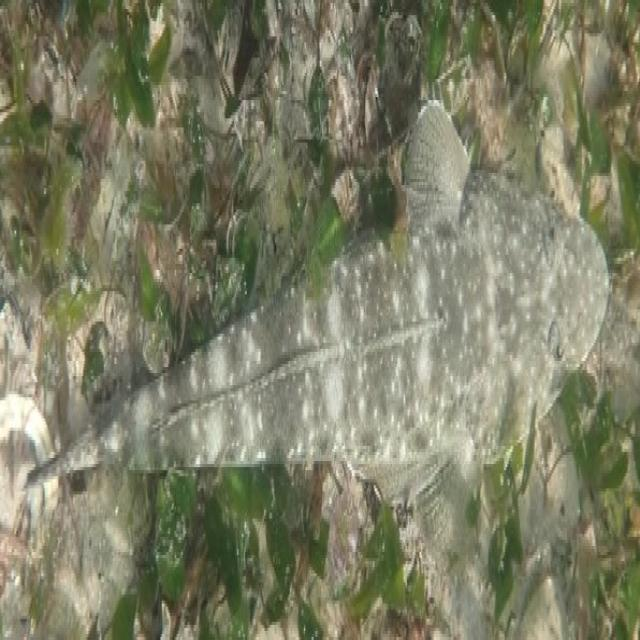Flathead: (19, 94, 615, 617)
